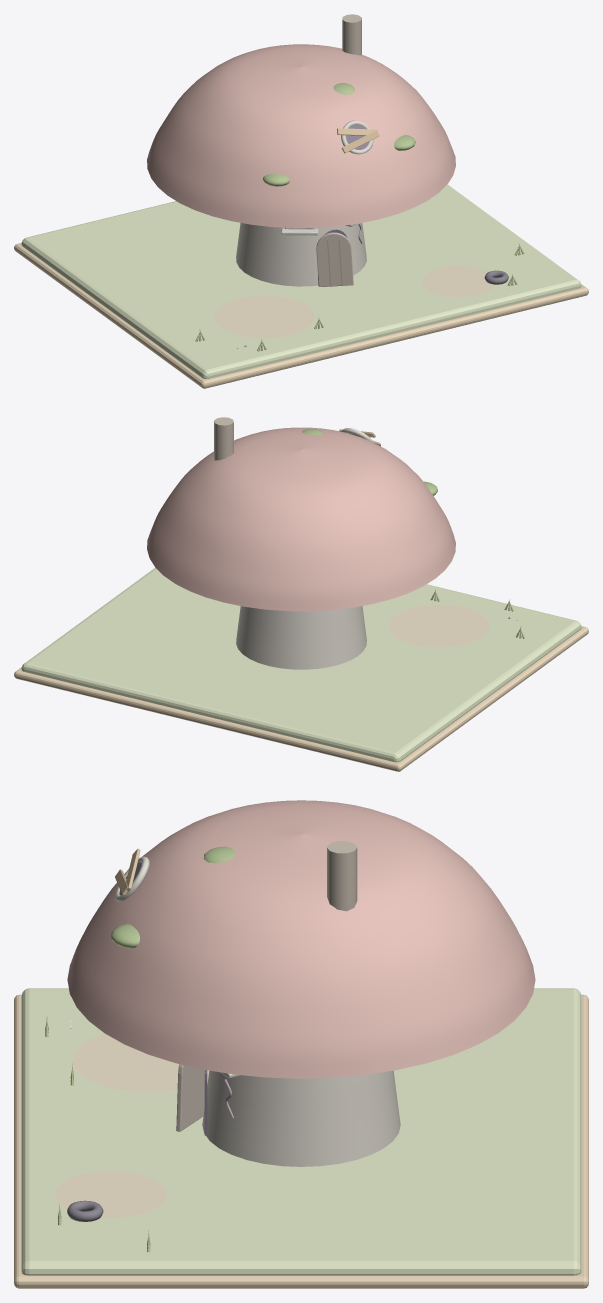
File: building_forest_L01.glb
The picture shows the model from 3 angles, top to bottom: view 1: azimuth 30°, elevation 25°; view 2: azimuth 150°, elevation 25°; view 3: azimuth 270°, elevation 25°; orthographic projection. The views are drawn at different scales.
Visible parts, largest first — view 1: forest_L1; view 2: forest_L1; view 3: forest_L1.
Part boxes in pixels (<box>): forest_L1: <box>14,14,588,388</box>; forest_L1: <box>14,417,588,771</box>; forest_L1: <box>14,800,588,1288</box>.
Bounding box in the file's own units: 26.61 × 15.58 × 22.6.
